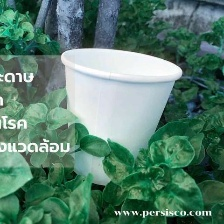paper_cup: (53, 44, 185, 194)
